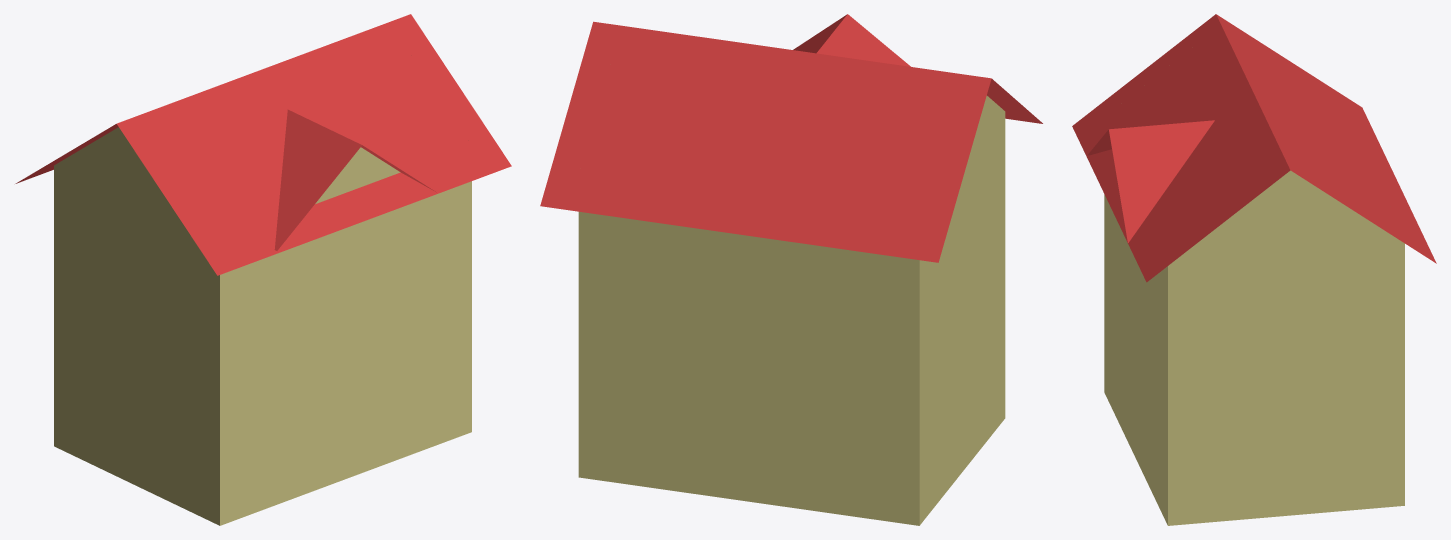
3 renders of one model, left to right at view 1: azimuth 30°, elevation 25°; view 2: azimuth 150°, elevation 25°; view 3: azimuth 270°, elevation 25°, orthographic. The views are drawn at different scales.
Bounding box in the file's own units: 15.74 × 13.4 × 14.46.
